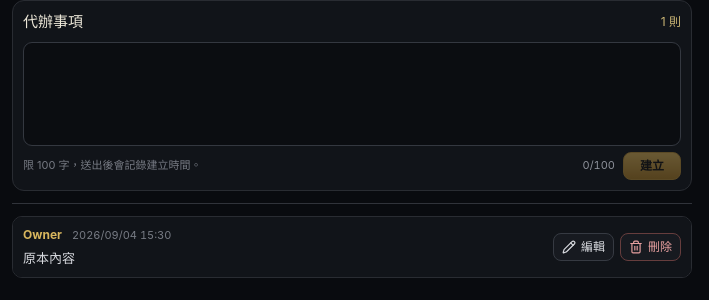
it: AdminTodos › uses the app confirmation contract before permanently deleting a todo
Click the button "刪除".
click(650, 247)  # box [620,233,681,261]
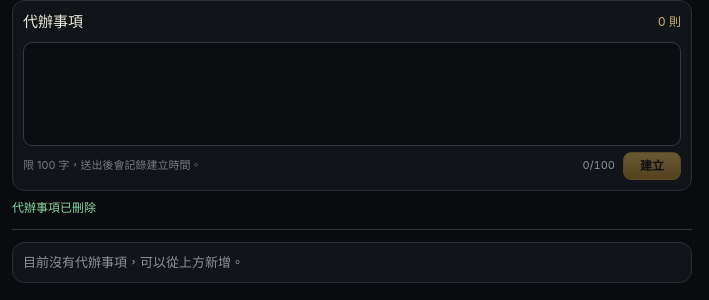
Now the text "原本內容" is gone
